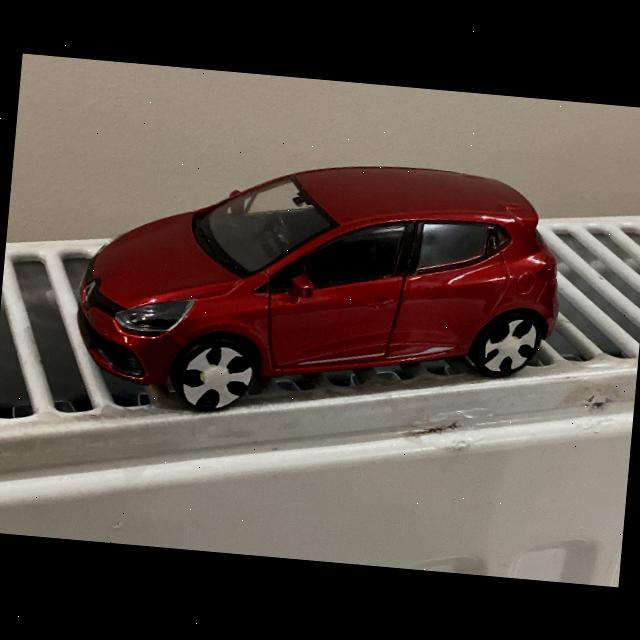Yanlis_Jant: (180, 342, 253, 412), (481, 316, 538, 376)
